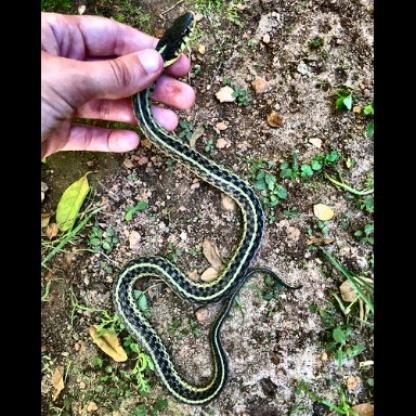Snake: (112, 32, 297, 405)
